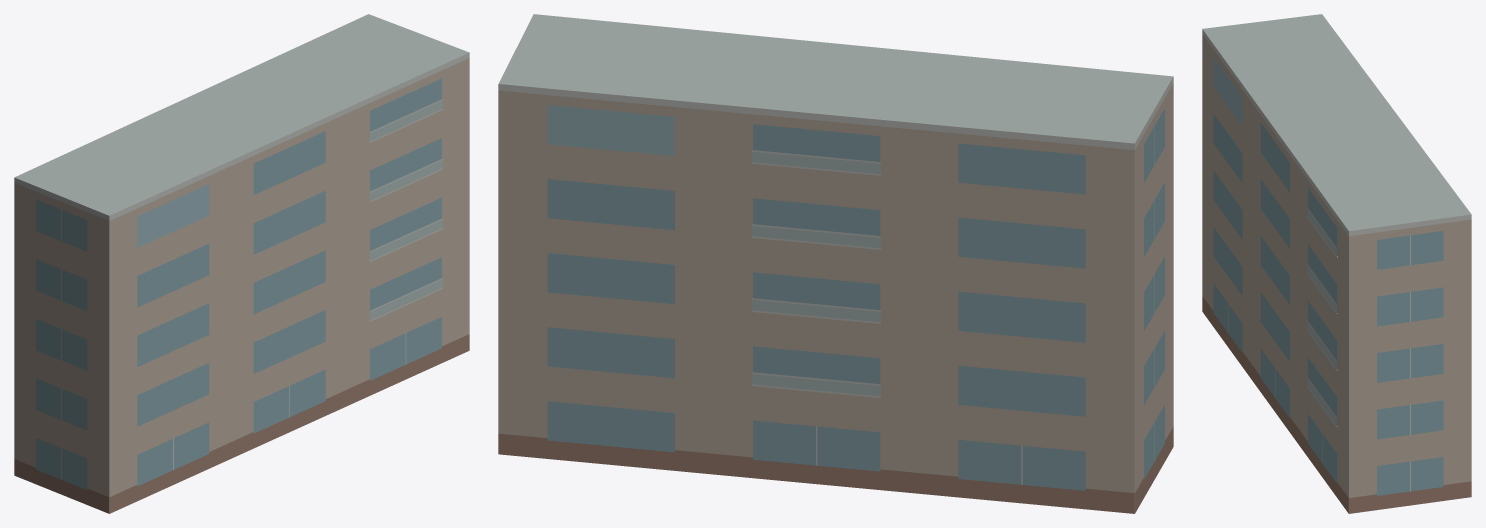
The model's file is survey-upis-32534028.glb.
3 renders of one model, left to right at view 1: azimuth 30°, elevation 25°; view 2: azimuth 150°, elevation 25°; view 3: azimuth 270°, elevation 25°, orthographic. The views are drawn at different scales.
Parts seen in each view (by area): view 1: survey-upis-32534028.tmp; view 2: survey-upis-32534028.tmp; view 3: survey-upis-32534028.tmp.
Boxes of the visible parts, bbox=[...] form: survey-upis-32534028.tmp: bbox=[14, 14, 469, 513]; survey-upis-32534028.tmp: bbox=[498, 14, 1173, 513]; survey-upis-32534028.tmp: bbox=[1202, 14, 1471, 513].
Size of the model in its own units: 22.78 by 13.81 by 11.94.
